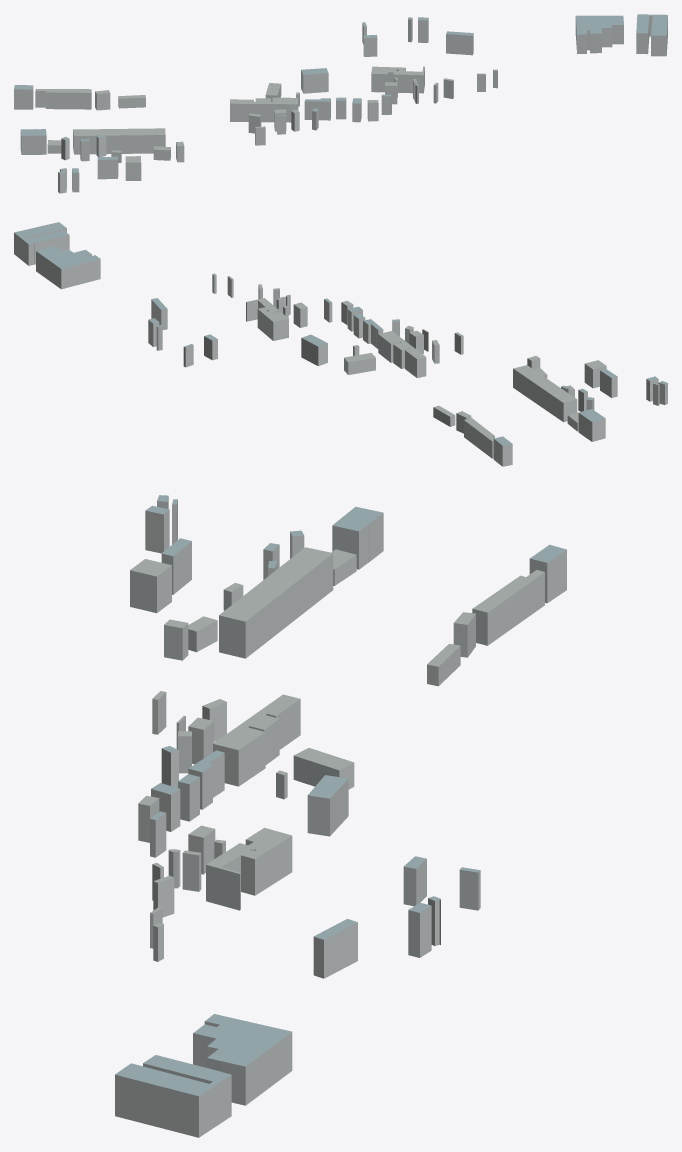
The model's file is far.glb.
3 views of the same model, one above another, from view 1: azimuth 30°, elevation 25°; view 2: azimuth 150°, elevation 25°; view 3: azimuth 270°, elevation 25° (orthographic). The views are drawn at different scales.
Bounding box in the file's own units: 622 × 21.7 × 197.
